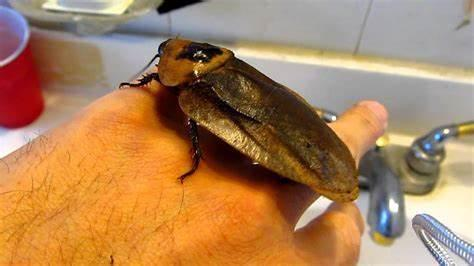cockroach: (154, 36, 360, 204)
